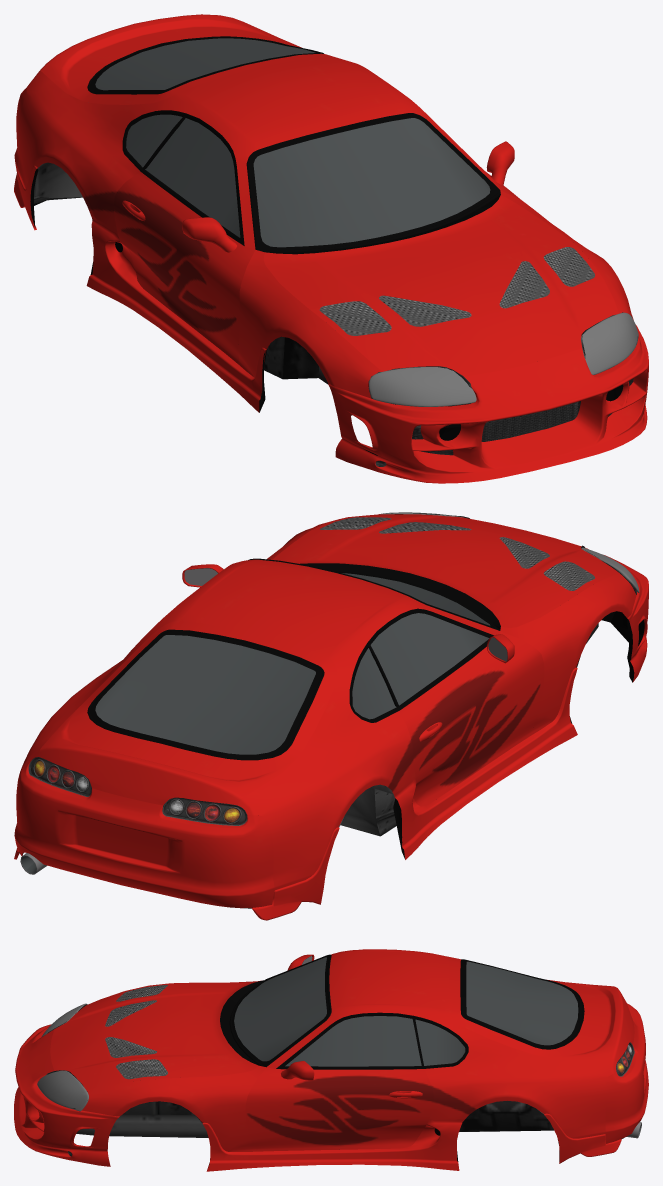
The model's file is car 6.fbx.
3 views of the same model, one above another, from view 1: azimuth 30°, elevation 25°; view 2: azimuth 150°, elevation 25°; view 3: azimuth 270°, elevation 25° (orthographic). The views are drawn at different scales.
Parts seen in each view (by area): view 1: car_6; view 2: car_6; view 3: car_6.
Boxes of the visible parts, x1,y1,x2,y2 form: car_6: (14,14,648,483); car_6: (14,512,648,920); car_6: (14,949,648,1171).
Size of the model in its own units: 1.95 by 1.1 by 4.51.
